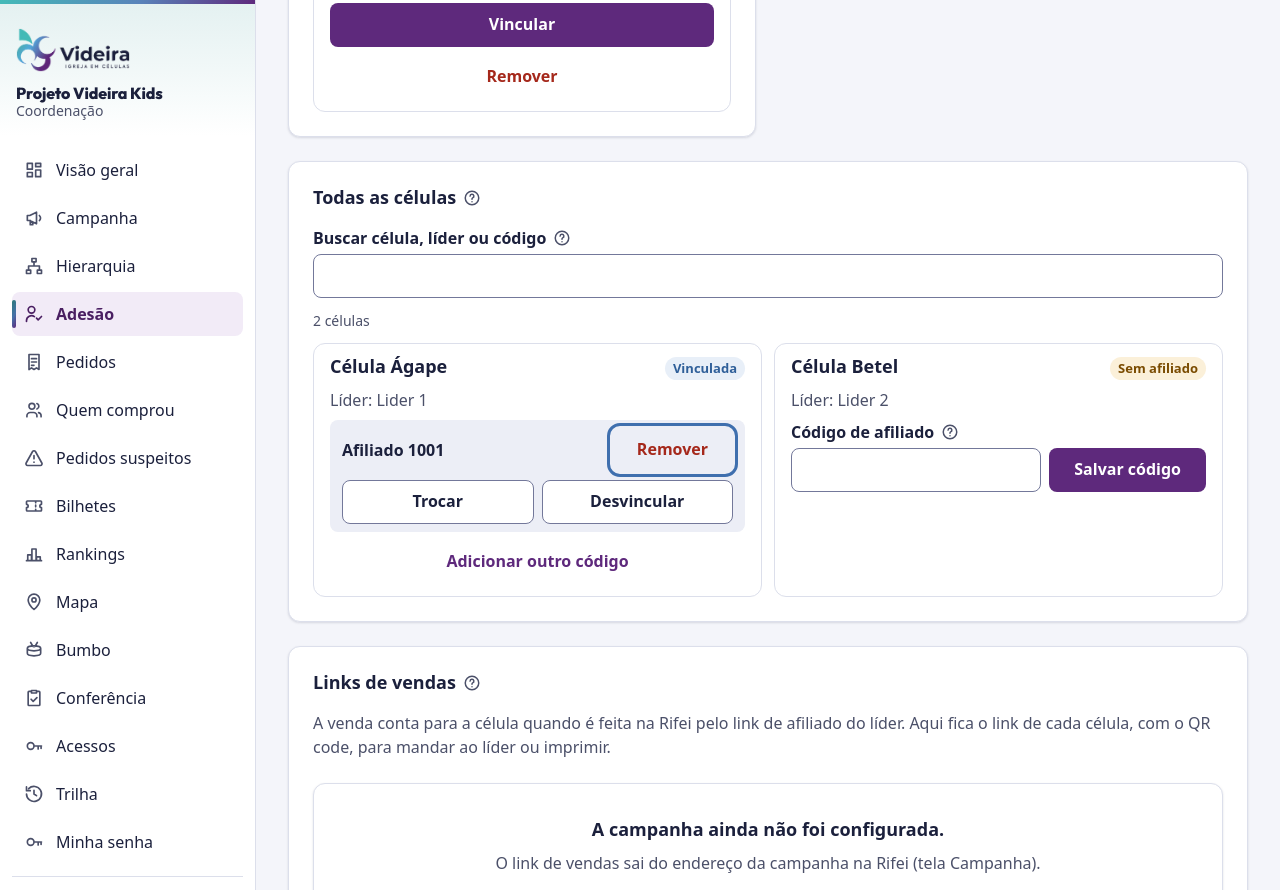
Test: CA5: remover › afiliado da célula, sem pedido que conte: 204, o aviso no cartão e o foco no título da célula
(page scrolled)
Click the button named "Remover o afiliado 1001".
click(672, 450)  # box [612,428,733,472]
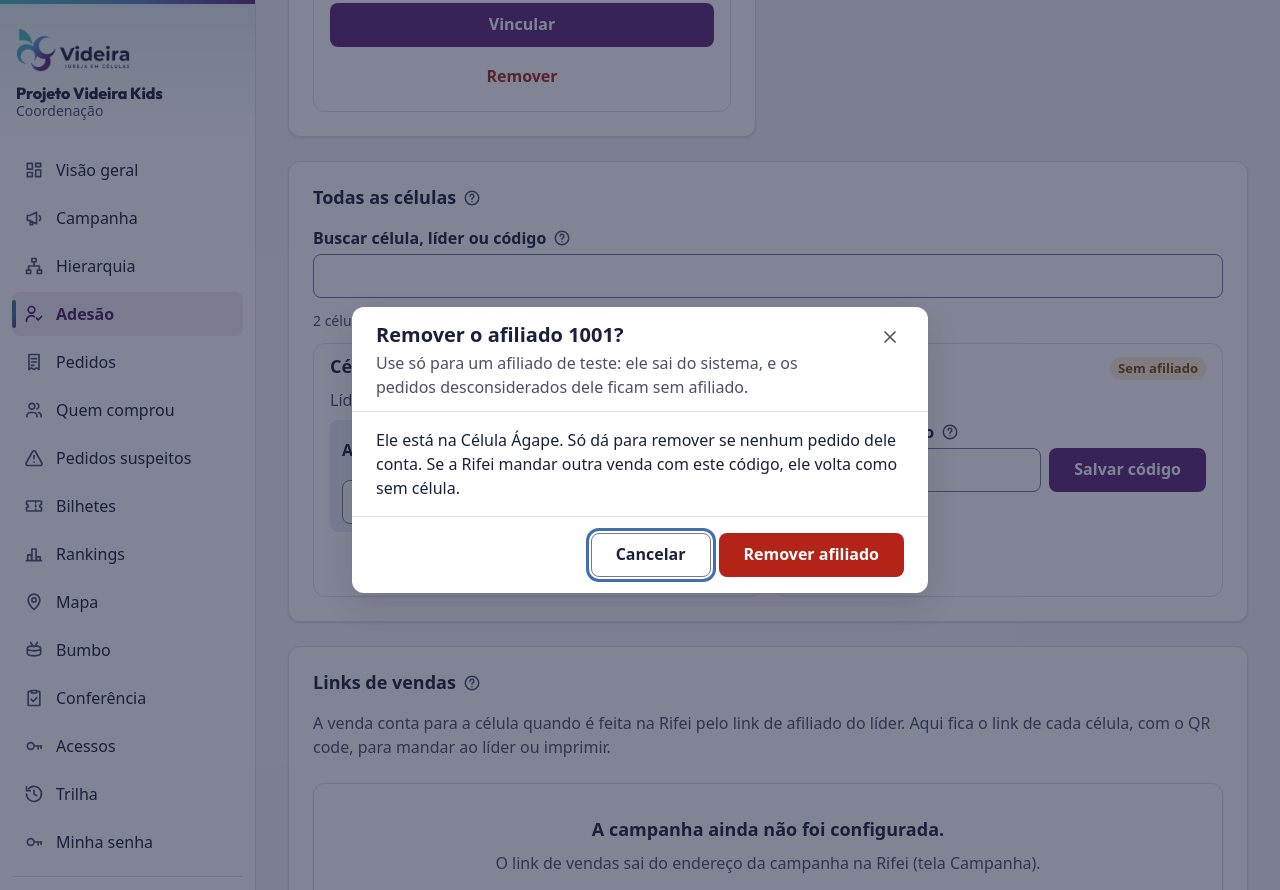
Click the button "Remover afiliado".
click(811, 555)  # box [718,533,904,577]
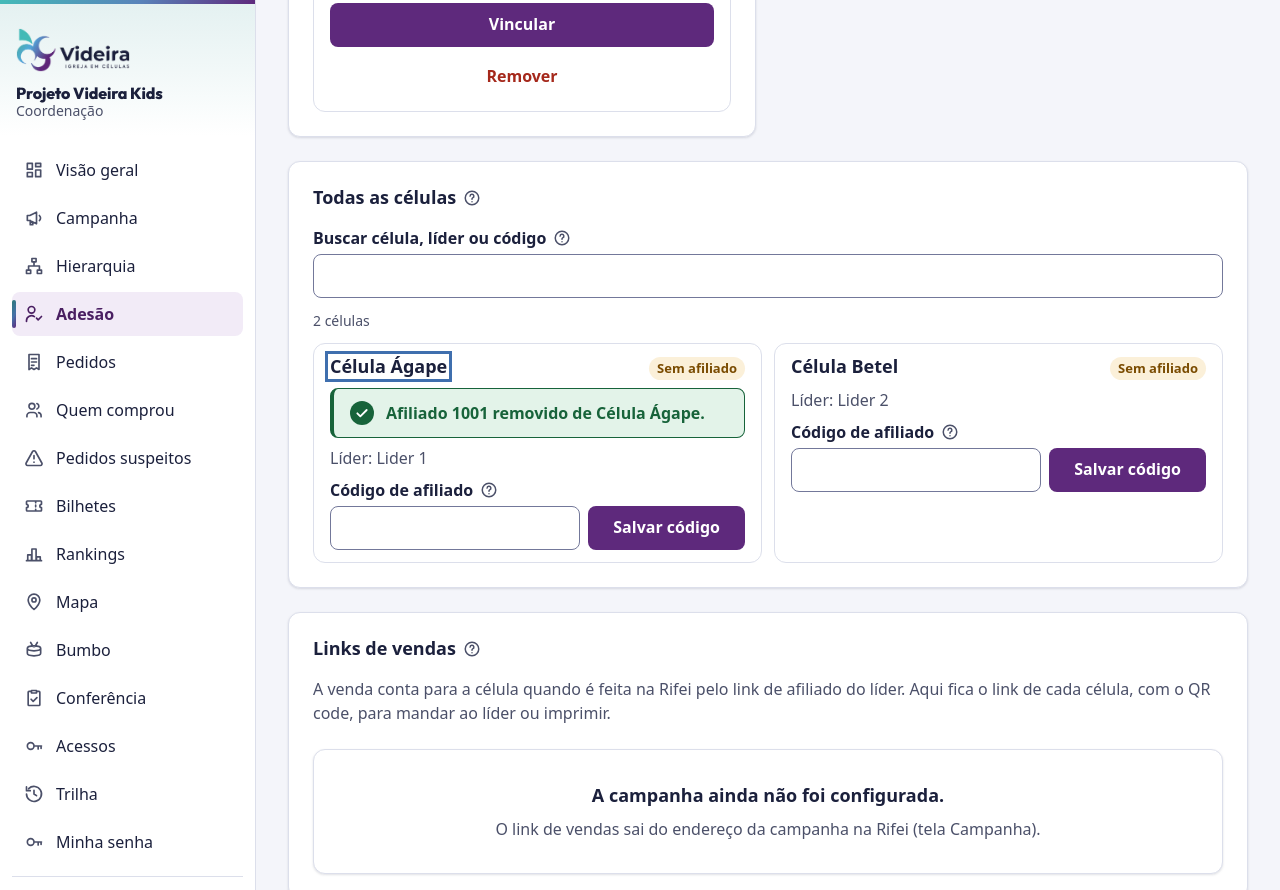
Check: the dialog is gone
Check: the heading "Remover o afiliado 1001" is gone
